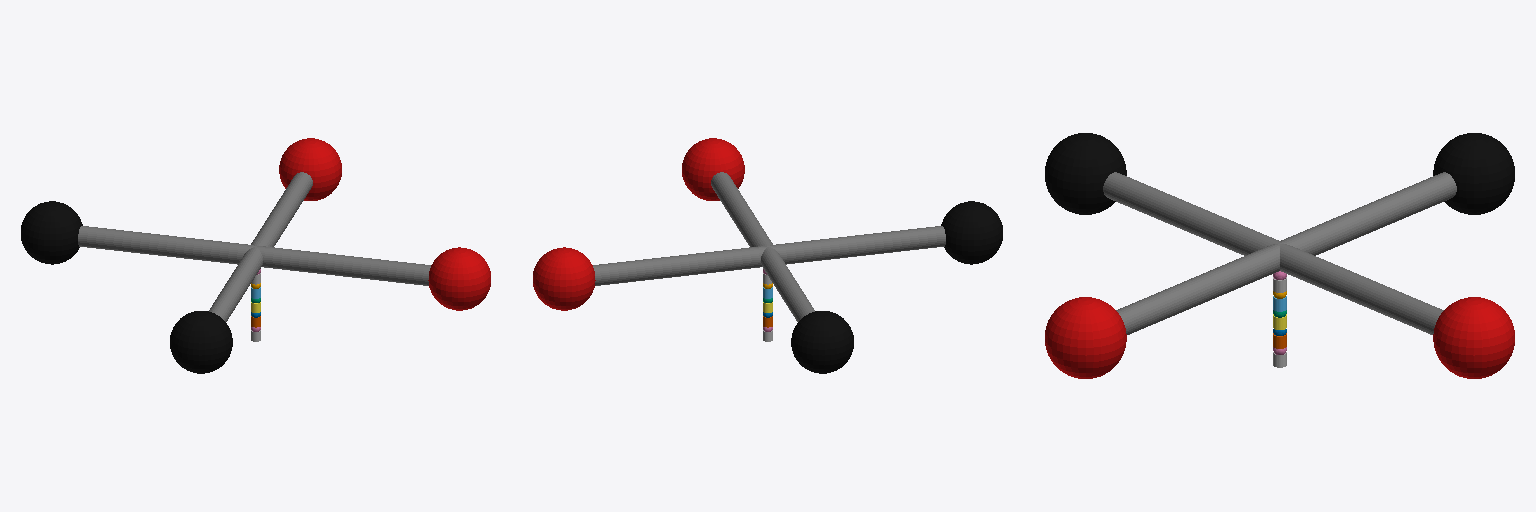
URDF robot description (general_rope):
<?xml version="1.0" ?>

<!-- general.urdf (des-inf-dom-rand) with the rope of a300_rope.urdf (5 x 1.5 cm) hanging from the COM,
     for the pursuer task (general_rope_long.urdf: twice as long).
     General quadrotor for wide domain randomization: two crossed arms and four motor spheres.
     The drone parameters and their randomization ranges are in hydra_configs/drone/general.yaml, whose
     nominals are written into Genesis at build. kf and km are in <properties> because Genesis needs them to
     load. Front motors red, back motors black. -->

<robot name="general_rope">

  <properties kf="4.5e-8" km="5.4e-10" />

  <link name="base_link">

    <inertial>
      <origin rpy="0 0 0" xyz="0 0 0"/>
      <mass value="1.0"/>
      <inertia ixx="0.01" ixy="0.0" ixz="0.0" iyy="0.01" iyz="0.0" izz="0.016"/>
    </inertial>

    <visual>
      <origin rpy="0 1.570796 0.785398" xyz="0 0 0"/>
      <geometry>
        <cylinder radius="0.01" length="0.4"/>
      </geometry>
      <material name="grey"><color rgba="0.5 0.5 0.5 1"/></material>
    </visual>

    <visual>
      <origin rpy="0 1.570796 -0.785398" xyz="0 0 0"/>
      <geometry>
        <cylinder radius="0.01" length="0.4"/>
      </geometry>
      <material name="grey"><color rgba="0.5 0.5 0.5 1"/></material>
    </visual>

    <collision>
      <origin rpy="0 0 0" xyz="0 0 0"/>
      <geometry>
        <cylinder radius="0.05" length="0.04"/>
      </geometry>
    </collision>

  </link>

  <!-- Rotors as on the a300/x500: 0 front right (ccw), 1 back left (ccw), 2 front left (cw), 3 back right (cw),
       so propellers_spin=(-1, -1, 1, 1). Thrust is applied at each prop link's inertial origin. -->
  <link name="prop0_link">
    <inertial>
      <origin rpy="0 0 0" xyz="0.141421 -0.141421 0"/>
      <mass value="0"/>
      <inertia ixx="0" ixy="0" ixz="0" iyy="0" iyz="0" izz="0"/>
    </inertial>
    <visual>
      <origin rpy="0 0 0" xyz="0.141421 -0.141421 0"/>
      <geometry>
        <sphere radius="0.03"/>
      </geometry>
      <material name="red"><color rgba="0.8 0.1 0.1 1"/></material>
    </visual>
  </link>
  <joint name="prop0_joint" type="fixed">
    <parent link="base_link"/>
    <child link="prop0_link"/>
  </joint>

  <link name="prop1_link">
    <inertial>
      <origin rpy="0 0 0" xyz="-0.141421 0.141421 0"/>
      <mass value="0"/>
      <inertia ixx="0" ixy="0" ixz="0" iyy="0" iyz="0" izz="0"/>
    </inertial>
    <visual>
      <origin rpy="0 0 0" xyz="-0.141421 0.141421 0"/>
      <geometry>
        <sphere radius="0.03"/>
      </geometry>
      <material name="black"><color rgba="0.1 0.1 0.1 1"/></material>
    </visual>
  </link>
  <joint name="prop1_joint" type="fixed">
    <parent link="base_link"/>
    <child link="prop1_link"/>
  </joint>

  <link name="prop2_link">
    <inertial>
      <origin rpy="0 0 0" xyz="0.141421 0.141421 0"/>
      <mass value="0"/>
      <inertia ixx="0" ixy="0" ixz="0" iyy="0" iyz="0" izz="0"/>
    </inertial>
    <visual>
      <origin rpy="0 0 0" xyz="0.141421 0.141421 0"/>
      <geometry>
        <sphere radius="0.03"/>
      </geometry>
      <material name="red"><color rgba="0.8 0.1 0.1 1"/></material>
    </visual>
  </link>
  <joint name="prop2_joint" type="fixed">
    <parent link="base_link"/>
    <child link="prop2_link"/>
  </joint>

  <link name="prop3_link">
    <inertial>
      <origin rpy="0 0 0" xyz="-0.141421 -0.141421 0"/>
      <mass value="0"/>
      <inertia ixx="0" ixy="0" ixz="0" iyy="0" iyz="0" izz="0"/>
    </inertial>
    <visual>
      <origin rpy="0 0 0" xyz="-0.141421 -0.141421 0"/>
      <geometry>
        <sphere radius="0.03"/>
      </geometry>
      <material name="black"><color rgba="0.1 0.1 0.1 1"/></material>
    </visual>
  </link>
  <joint name="prop3_joint" type="fixed">
    <parent link="base_link"/>
    <child link="prop3_link"/>
  </joint>




  <link name="center_of_mass_link">
    <inertial>
      <origin rpy="0 0 0" xyz="0 0 0"/>
      <mass value="0"/>
      <inertia ixx="0" ixy="0" ixz="0" iyy="0" iyz="0" izz="0"/>
    </inertial>
  </link>
  <joint name="center_of_mass_joint" type="fixed">
    <parent link="base_link"/>
    <child link="center_of_mass_link"/>
  </joint>

  <!-- rope of 5 segments (two revolute joints each) hanging from the COM, as in bros300.urdf; the rod
       task welds a rod to segment_5_cylinder -->
<!-- Spherical joint -->
  <link name="segment_1_sphere">
    <visual>
      <geometry>
        <sphere radius="0.005"/>
      </geometry>
      <material name="gray"/>
    </visual>
    <inertial>
      <origin rpy="0 0 0" xyz="0 0 0"/>
      <mass value="0.002"/>
      <inertia ixx="1e-7" ixy="0" ixz="0" iyy="1e-7" iyz="0" izz="1e-7"/>
    </inertial>
  </link>
  <joint name="center_of_mass_link_to_segment_1_sphere" type="revolute">
    <parent link="center_of_mass_link"/>
    <child link="segment_1_sphere"/>
    <origin rpy="0 0 0" xyz="0 0 -0.015"/>
    <axis xyz="0 1 0"/>
    <limit effort="10" lower="-3.14" upper="3.14" velocity="3"/>
    <dynamics damping="0.1" friction="0.0"/>
  </joint>
  <!-- Cylinder segment -->
  <link name="segment_1_cylinder">
    <visual>
      <geometry>
        <cylinder length="0.01" radius="0.005"/>
      </geometry>
      <origin rpy="0 0 0" xyz="0 0 -0.0075"/>
      <material name="blue"/>
    </visual>
    <inertial>
      <origin rpy="0 0 0" xyz="0 0 -0.0075"/>
      <mass value="0.002"/>
      <inertia ixx="1e-7" ixy="0" ixz="0" iyy="1e-7" iyz="0" izz="1e-7"/>
    </inertial>
  </link>
  <joint name="segment_1_sphere_to_cylinder" type="revolute">
    <parent link="segment_1_sphere"/>
    <child link="segment_1_cylinder"/>
    <origin rpy="0 0 0" xyz="0 0 0"/>
    <axis xyz="1 0 0"/>
    <limit effort="10" lower="-3.14" upper="3.14" velocity="3"/>
    <dynamics damping="0.1" friction="0.0"/>
  </joint>

  <!-- Spherical joint -->
  <link name="segment_2_sphere">
    <visual>
      <geometry>
        <sphere radius="0.005"/>
      </geometry>
      <material name="gray"/>
    </visual>
    <inertial>
      <origin rpy="0 0 0" xyz="0 0 0"/>
      <mass value="0.002"/>
      <inertia ixx="1e-7" ixy="0" ixz="0" iyy="1e-7" iyz="0" izz="1e-7"/>
    </inertial>
  </link>
  <joint name="segment_1_cylinder_to_segment_2_sphere" type="revolute">
    <parent link="segment_1_cylinder"/>
    <child link="segment_2_sphere"/>
    <origin rpy="0 0 0" xyz="0 0 -0.015"/>
    <axis xyz="0 1 0"/>
    <limit effort="10" lower="-3.14" upper="3.14" velocity="3"/>
    <dynamics damping="0.1" friction="0.0"/>
  </joint>
  <!-- Cylinder segment -->
  <link name="segment_2_cylinder">
    <visual>
      <geometry>
        <cylinder length="0.01" radius="0.005"/>
      </geometry>
      <origin rpy="0 0 0" xyz="0 0 -0.0075"/>
      <material name="blue"/>
    </visual>
    <inertial>
      <origin rpy="0 0 0" xyz="0 0 -0.0075"/>
      <mass value="0.002"/>
      <inertia ixx="1e-7" ixy="0" ixz="0" iyy="1e-7" iyz="0" izz="1e-7"/>
    </inertial>
  </link>
  <joint name="segment_2_sphere_to_cylinder" type="revolute">
    <parent link="segment_2_sphere"/>
    <child link="segment_2_cylinder"/>
    <origin rpy="0 0 0" xyz="0 0 0"/>
    <axis xyz="1 0 0"/>
    <limit effort="10" lower="-3.14" upper="3.14" velocity="3"/>
    <dynamics damping="0.1" friction="0.0"/>
  </joint>

  <!-- Spherical joint -->
  <link name="segment_3_sphere">
    <visual>
      <geometry>
        <sphere radius="0.005"/>
      </geometry>
      <material name="gray"/>
    </visual>
    <inertial>
      <origin rpy="0 0 0" xyz="0 0 0"/>
      <mass value="0.002"/>
      <inertia ixx="1e-7" ixy="0" ixz="0" iyy="1e-7" iyz="0" izz="1e-7"/>
    </inertial>
  </link>
  <joint name="segment_2_cylinder_to_segment_3_sphere" type="revolute">
    <parent link="segment_2_cylinder"/>
    <child link="segment_3_sphere"/>
    <origin rpy="0 0 0" xyz="0 0 -0.015"/>
    <axis xyz="0 1 0"/>
    <limit effort="10" lower="-3.14" upper="3.14" velocity="3"/>
    <dynamics damping="0.1" friction="0.0"/>
  </joint>
  <!-- Cylinder segment -->
  <link name="segment_3_cylinder">
    <visual>
      <geometry>
        <cylinder length="0.01" radius="0.005"/>
      </geometry>
      <origin rpy="0 0 0" xyz="0 0 -0.0075"/>
      <material name="blue"/>
    </visual>
    <inertial>
      <origin rpy="0 0 0" xyz="0 0 -0.0075"/>
      <mass value="0.002"/>
      <inertia ixx="1e-7" ixy="0" ixz="0" iyy="1e-7" iyz="0" izz="1e-7"/>
    </inertial>
  </link>
  <joint name="segment_3_sphere_to_cylinder" type="revolute">
    <parent link="segment_3_sphere"/>
    <child link="segment_3_cylinder"/>
    <origin rpy="0 0 0" xyz="0 0 0"/>
    <axis xyz="1 0 0"/>
    <limit effort="10" lower="-3.14" upper="3.14" velocity="3"/>
    <dynamics damping="0.1" friction="0.0"/>
  </joint>

  <!-- Spherical joint -->
  <link name="segment_4_sphere">
    <visual>
      <geometry>
        <sphere radius="0.005"/>
      </geometry>
      <material name="gray"/>
    </visual>
    <inertial>
      <origin rpy="0 0 0" xyz="0 0 0"/>
      <mass value="0.002"/>
      <inertia ixx="1e-7" ixy="0" ixz="0" iyy="1e-7" iyz="0" izz="1e-7"/>
    </inertial>
  </link>
  <joint name="segment_3_cylinder_to_segment_4_sphere" type="revolute">
    <parent link="segment_3_cylinder"/>
    <child link="segment_4_sphere"/>
    <origin rpy="0 0 0" xyz="0 0 -0.015"/>
    <axis xyz="0 1 0"/>
    <limit effort="10" lower="-3.14" upper="3.14" velocity="3"/>
    <dynamics damping="0.1" friction="0.0"/>
  </joint>
  <!-- Cylinder segment -->
  <link name="segment_4_cylinder">
    <visual>
      <geometry>
        <cylinder length="0.01" radius="0.005"/>
      </geometry>
      <origin rpy="0 0 0" xyz="0 0 -0.0075"/>
      <material name="blue"/>
    </visual>
    <inertial>
      <origin rpy="0 0 0" xyz="0 0 -0.0075"/>
      <mass value="0.002"/>
      <inertia ixx="1e-7" ixy="0" ixz="0" iyy="1e-7" iyz="0" izz="1e-7"/>
    </inertial>
  </link>
  <joint name="segment_4_sphere_to_cylinder" type="revolute">
    <parent link="segment_4_sphere"/>
    <child link="segment_4_cylinder"/>
    <origin rpy="0 0 0" xyz="0 0 0"/>
    <axis xyz="1 0 0"/>
    <limit effort="10" lower="-3.14" upper="3.14" velocity="3"/>
    <dynamics damping="0.1" friction="0.0"/>
  </joint>

  <!-- Spherical joint -->
  <link name="segment_5_sphere">
    <visual>
      <geometry>
        <sphere radius="0.005"/>
      </geometry>
      <material name="gray"/>
    </visual>
    <inertial>
      <origin rpy="0 0 0" xyz="0 0 0"/>
      <mass value="0.002"/>
      <inertia ixx="1e-7" ixy="0" ixz="0" iyy="1e-7" iyz="0" izz="1e-7"/>
    </inertial>
  </link>
  <joint name="segment_4_cylinder_to_segment_5_sphere" type="revolute">
    <parent link="segment_4_cylinder"/>
    <child link="segment_5_sphere"/>
    <origin rpy="0 0 0" xyz="0 0 -0.015"/>
    <axis xyz="0 1 0"/>
    <limit effort="10" lower="-3.14" upper="3.14" velocity="3"/>
    <dynamics damping="0.1" friction="0.0"/>
  </joint>
  <!-- Cylinder segment -->
  <link name="segment_5_cylinder">
    <visual>
      <geometry>
        <cylinder length="0.01" radius="0.005"/>
      </geometry>
      <origin rpy="0 0 0" xyz="0 0 -0.0075"/>
      <material name="blue"/>
    </visual>
    <inertial>
      <origin rpy="0 0 0" xyz="0 0 -0.0075"/>
      <mass value="0.002"/>
      <inertia ixx="1e-7" ixy="0" ixz="0" iyy="1e-7" iyz="0" izz="1e-7"/>
    </inertial>
  </link>
  <joint name="segment_5_sphere_to_cylinder" type="revolute">
    <parent link="segment_5_sphere"/>
    <child link="segment_5_cylinder"/>
    <origin rpy="0 0 0" xyz="0 0 0"/>
    <axis xyz="1 0 0"/>
    <limit effort="10" lower="-3.14" upper="3.14" velocity="3"/>
    <dynamics damping="0.1" friction="0.0"/>
  </joint>

</robot>

--- What the picture shows (computed from the rendered views, not written in the file) ---
The picture shows the robot from 3 angles, left to right: view 1: azimuth 30°, elevation 25°; view 2: azimuth 150°, elevation 25°; view 3: azimuth 270°, elevation 25°; orthographic projection.
Robot: general_rope — 16 links, 15 joints (10 revolute, 5 fixed); root link base_link; default pose: every joint at zero.
Visible links, largest first — view 1: base_link, prop3_link, prop0_link, prop1_link, prop2_link; view 2: base_link, prop1_link, prop2_link, prop3_link, prop0_link; view 3: base_link, prop0_link, prop2_link, prop1_link, prop3_link.
Boxes of the visible links, x1,y1,x2,y2 form: base_link: [78, 172, 430, 321]; prop3_link: [170, 311, 232, 373]; prop0_link: [428, 247, 490, 310]; prop1_link: [21, 201, 82, 264]; prop2_link: [279, 138, 341, 200]; base_link: [593, 172, 945, 321]; prop1_link: [791, 311, 853, 373]; prop2_link: [533, 247, 595, 310]; prop3_link: [941, 201, 1002, 264]; prop0_link: [682, 138, 744, 200]; base_link: [1103, 172, 1456, 334]; prop0_link: [1045, 297, 1126, 378]; prop2_link: [1433, 297, 1514, 378]; prop1_link: [1433, 133, 1514, 214]; prop3_link: [1045, 133, 1126, 214].
Size in the robot's own frame: 0.3428 by 0.3428 by 0.1175 metres.
Geometry: primitives only (box / cylinder / sphere), no mesh files.
